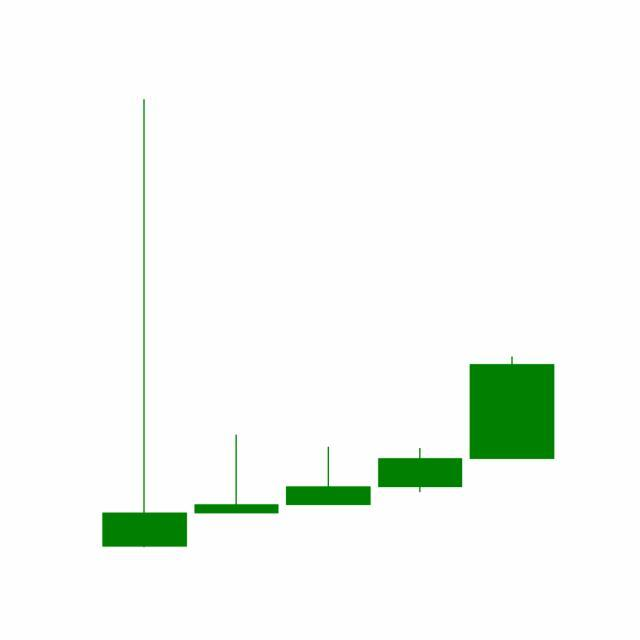Marubozu: (466, 356, 559, 461)
